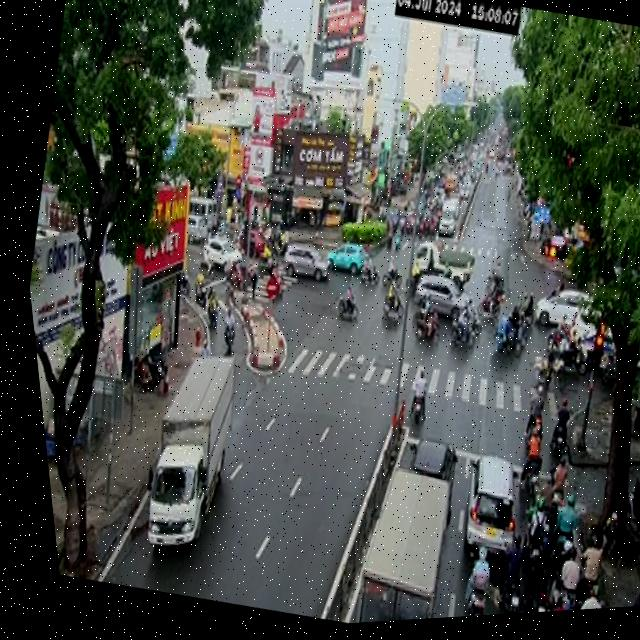Red: (574, 324, 605, 397), (527, 243, 568, 279)
